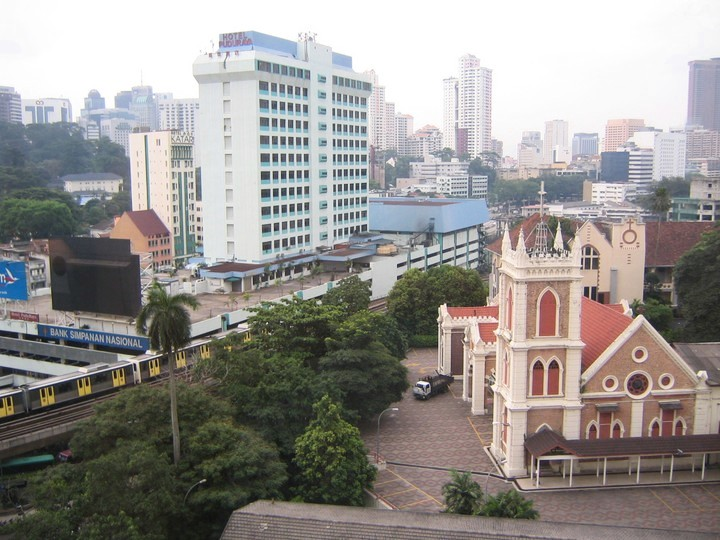Church: (444, 185, 700, 477)
